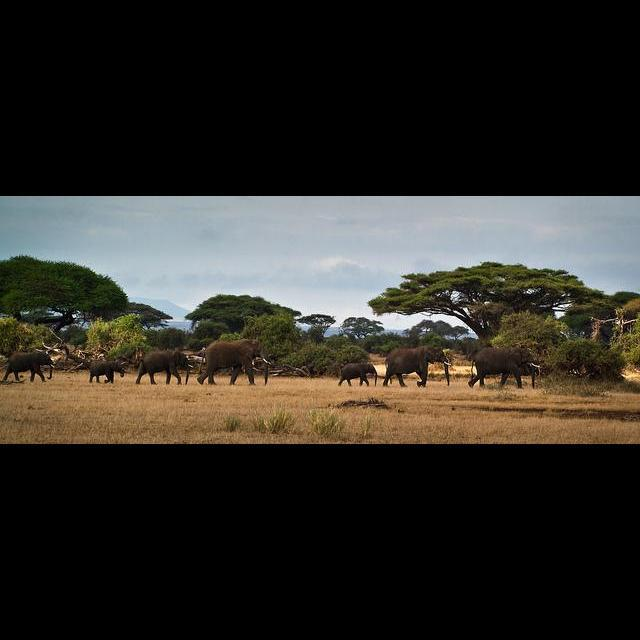elephant: (196, 338, 272, 386), (468, 346, 540, 389), (383, 344, 452, 388), (134, 350, 194, 386), (2, 352, 58, 384), (338, 364, 378, 388), (90, 359, 124, 385)
